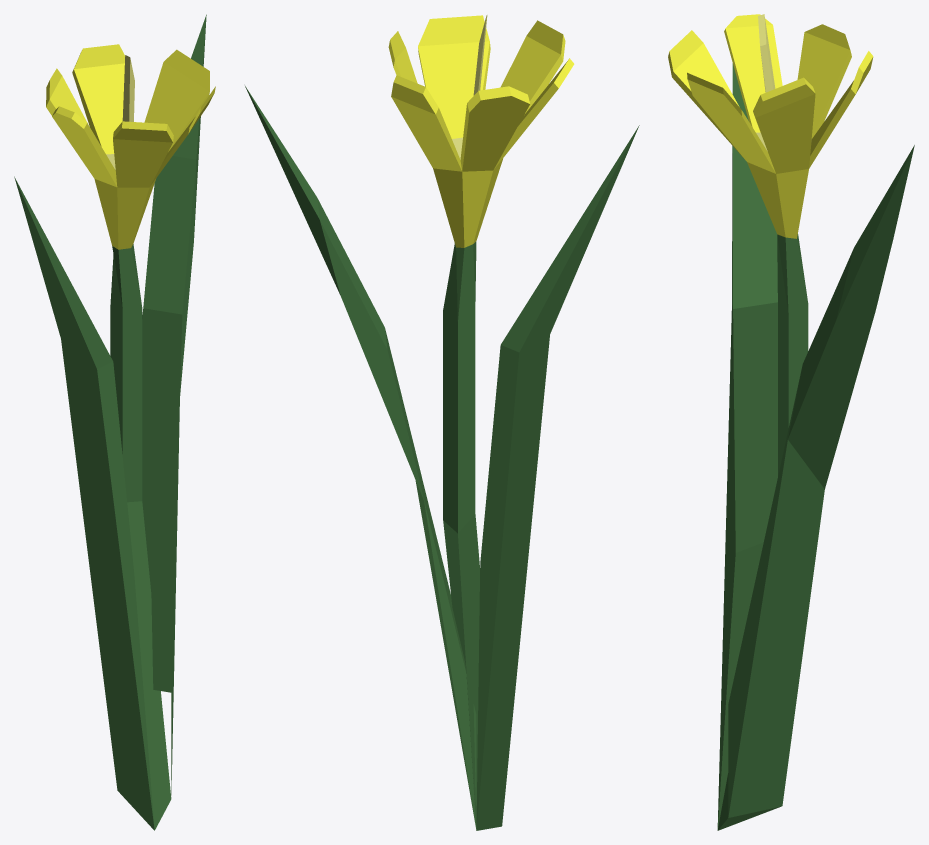
File: flowerKrokus03.gltf
3 renders of one model, left to right at view 1: azimuth 30°, elevation 25°; view 2: azimuth 150°, elevation 25°; view 3: azimuth 270°, elevation 25°, orthographic. The views are drawn at different scales.
Parts seen in each view (by area): view 1: Cylinder; view 2: Cylinder; view 3: Cylinder.
Part boxes in pixels (<box>): Cylinder: <box>14,14,215,830</box>; Cylinder: <box>245,15,639,830</box>; Cylinder: <box>668,14,914,830</box>.
Bounding box in the file's own units: 0.1294 × 0.339 × 0.0933.
Materials: 1 (1 with a texture image).
